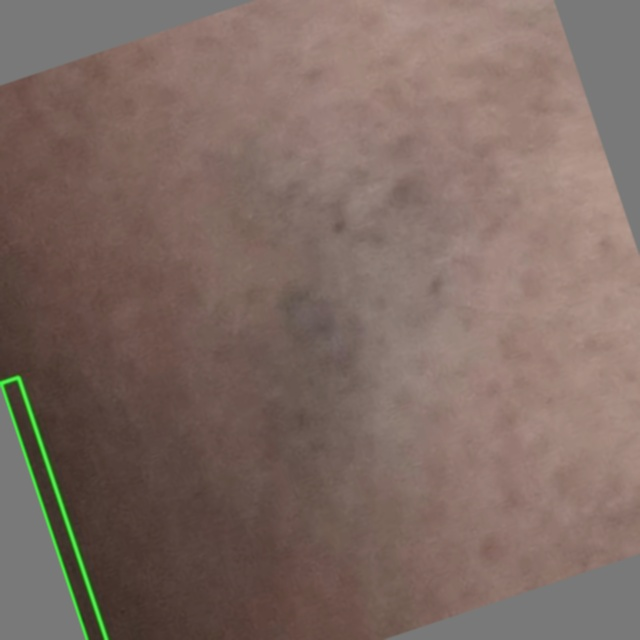Eczema: (0, 377, 106, 639)
